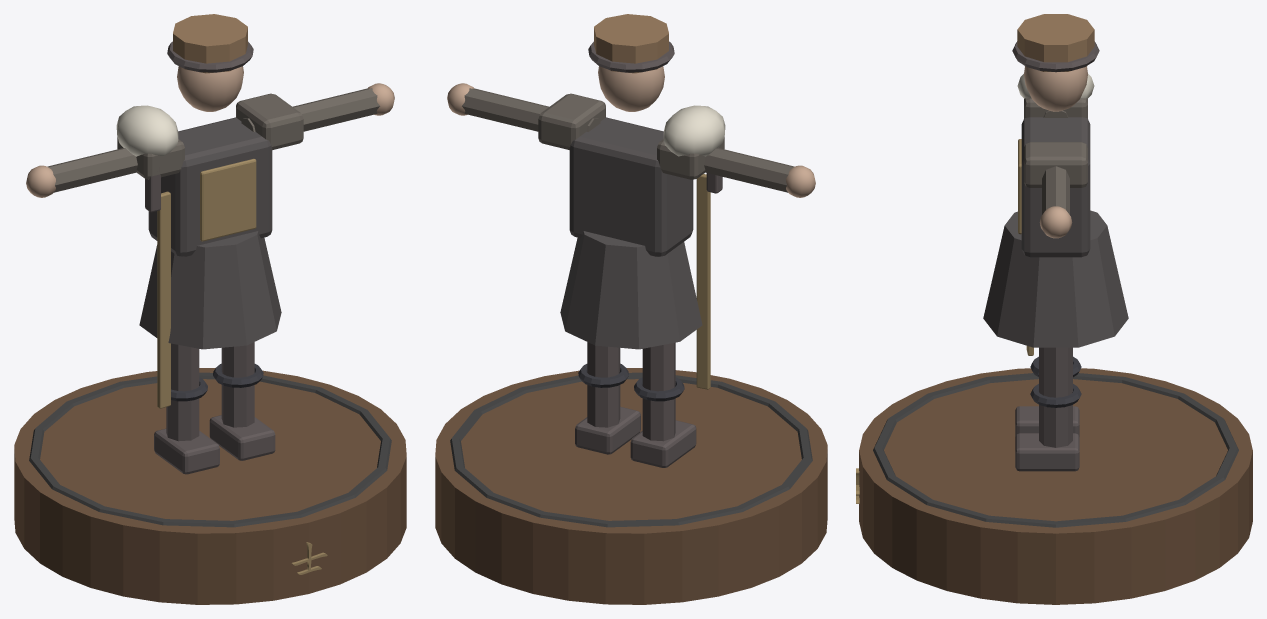
Rendered from advisor_black.glb.
The picture shows the model from 3 angles, left to right: view 1: azimuth 30°, elevation 25°; view 2: azimuth 150°, elevation 25°; view 3: azimuth 270°, elevation 25°; orthographic projection.
Visible parts, largest first — view 1: base, a_skirt, a_cuirass, base_trim_top, a_plastron, a_wuguan, a_sword_blade, a_leg_-0.075, a_trophy, a_pauldron_1, a_leg_0.075, a_arm_-1 (+10 smaller); view 2: base, a_skirt, a_cuirass, base_trim_top, a_wuguan, a_sword_blade, a_leg_-0.075, a_trophy, a_pauldron_1, a_leg_0.075, a_arm_-1, a_arm_1 (+9 smaller); view 3: base, a_skirt, base_trim_top, a_cuirass, a_wuguan, a_leg_0.075, a_pauldron_1, a_head, a_boot_0.075, a_arm_1, a_wuguan_band, a_boot_-0.075 (+3 smaller).
Part boxes in pixels (bbox=[...]): base: bbox=[14, 368, 406, 604]; a_skirt: bbox=[139, 231, 281, 349]; a_cuirass: bbox=[148, 117, 272, 256]; base_trim_top: bbox=[29, 372, 391, 527]; a_plastron: bbox=[200, 158, 256, 241]; a_wuguan: bbox=[173, 14, 247, 73]; a_sword_blade: bbox=[157, 191, 170, 408]; a_leg_-0.075: bbox=[166, 343, 199, 441]; a_trophy: bbox=[116, 105, 178, 156]; a_pauldron_1: bbox=[236, 93, 303, 149]; a_leg_0.075: bbox=[221, 342, 254, 427]; a_arm_-1: bbox=[47, 148, 137, 192]; base: bbox=[435, 368, 827, 604]; a_skirt: bbox=[560, 231, 702, 349]; a_cuirass: bbox=[569, 117, 693, 256]; base_trim_top: bbox=[450, 372, 812, 527]; a_wuguan: bbox=[594, 14, 668, 73]; a_sword_blade: bbox=[696, 174, 710, 389]; a_leg_-0.075: bbox=[642, 342, 675, 441]; a_trophy: bbox=[663, 105, 725, 156]; a_pauldron_1: bbox=[538, 93, 605, 149]; a_leg_0.075: bbox=[587, 342, 620, 427]; a_arm_-1: bbox=[704, 148, 794, 192]; a_arm_1: bbox=[462, 88, 600, 131]; base: bbox=[859, 368, 1252, 604]; a_skirt: bbox=[983, 210, 1128, 347]; base_trim_top: bbox=[873, 373, 1238, 527]; a_cuirass: bbox=[1021, 117, 1090, 257]; a_wuguan: bbox=[1017, 14, 1094, 71]; a_leg_0.075: bbox=[1039, 347, 1072, 447]; a_pauldron_1: bbox=[1024, 142, 1087, 187]; a_head: bbox=[1024, 66, 1087, 111]; a_boot_0.075: bbox=[1015, 433, 1079, 471]; a_arm_1: bbox=[1042, 166, 1069, 214]; a_wuguan_band: bbox=[1012, 41, 1099, 72]; a_boot_-0.075: bbox=[1015, 406, 1079, 436].
Size of the model in its own units: 0.9823 by 1.27 by 0.927.
